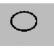no answer: (7, 9, 39, 32)
